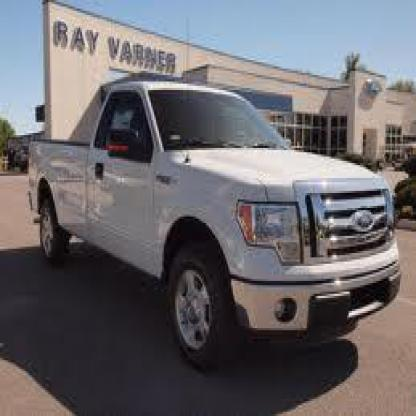Vehicle: (27, 77, 405, 373)
